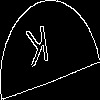K: (25, 24, 52, 77)
